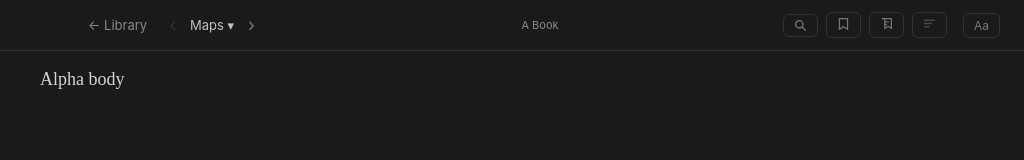
EpubReader — TOC-driven chapter list › lists TOC chapters (numbered from the body), not the repeated spine title
This screenshot has width=1024, height=160.
Expected: the text "Alpha body" is shown, [40,69,124,89]
// Open the chapter dropdown (label reflects the active TOC entry: "Maps").
What coordinates should you click on to do the following:
click the button "Maps ▾"
I would click on:
 (212, 25)
Its box is [188,13,236,37].
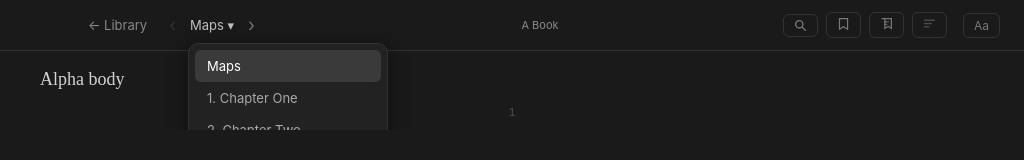
Expected: the button "1. Chapter One" is shown, [195,82,381,114]
